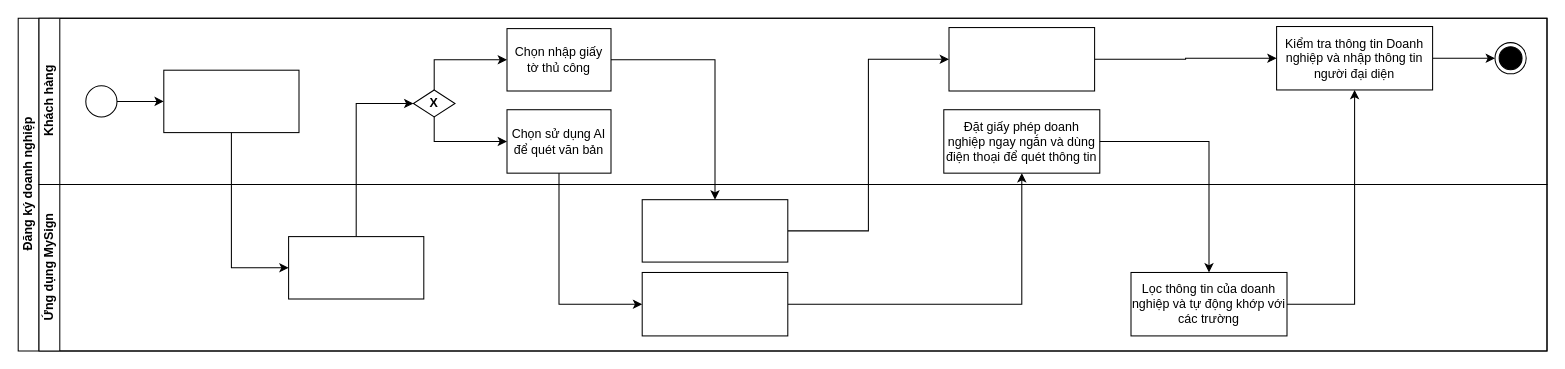
The diagram is 1565 pixels wide and 369 high, and some of its shapes have lost their labels. Here are the shapes that lost their labels. From the top down, the centre of each, then its label:
(x=1021, y=59): Nhập các thông tin cần thiết về doanh nghiệp
(x=231, y=101): Chọn đăng ký doanh nghiệp
(x=714, y=230): Hiển thị màn hình nhập thông tin doanh nghiệp
(x=356, y=267): Mở màn hình đăng ký
(x=714, y=303): Yêu cầu quyền và mở máy ảnh để quét tài liệu
